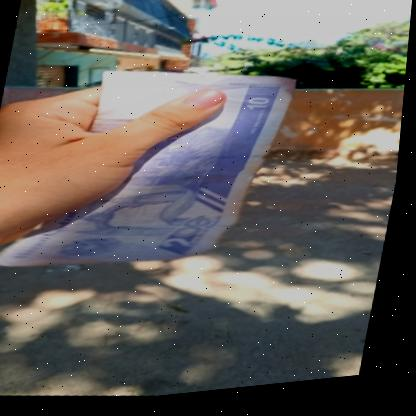ten-back-vef: (0, 48, 302, 286)
